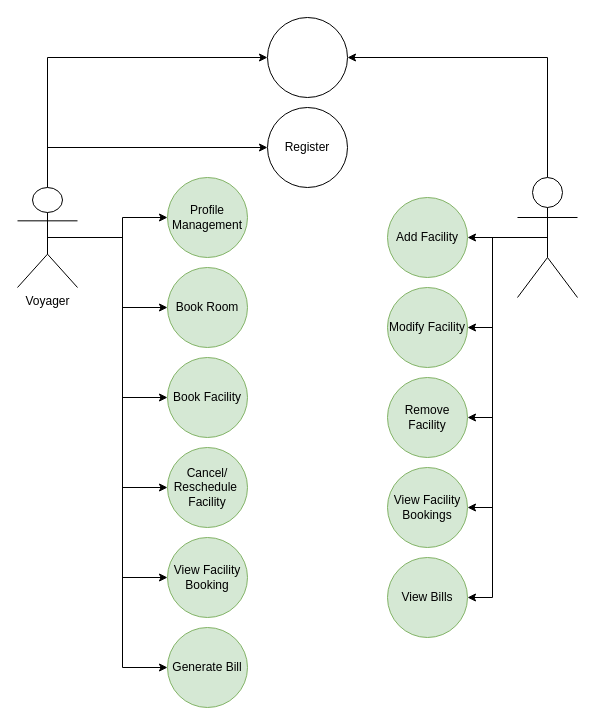
This 595x725 diagram has some shape labels left out. Each missing label, with the box of its shape:
Login: (266, 16, 348, 98)
Manager: (516, 176, 578, 298)
